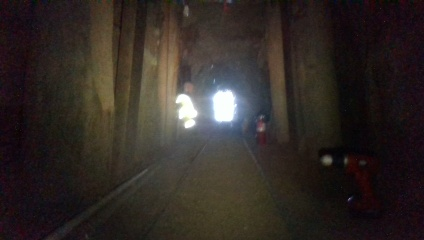drill: (323, 151, 388, 217)
fire_extinguisher: (251, 110, 269, 145)
manikin: (175, 78, 207, 138)
